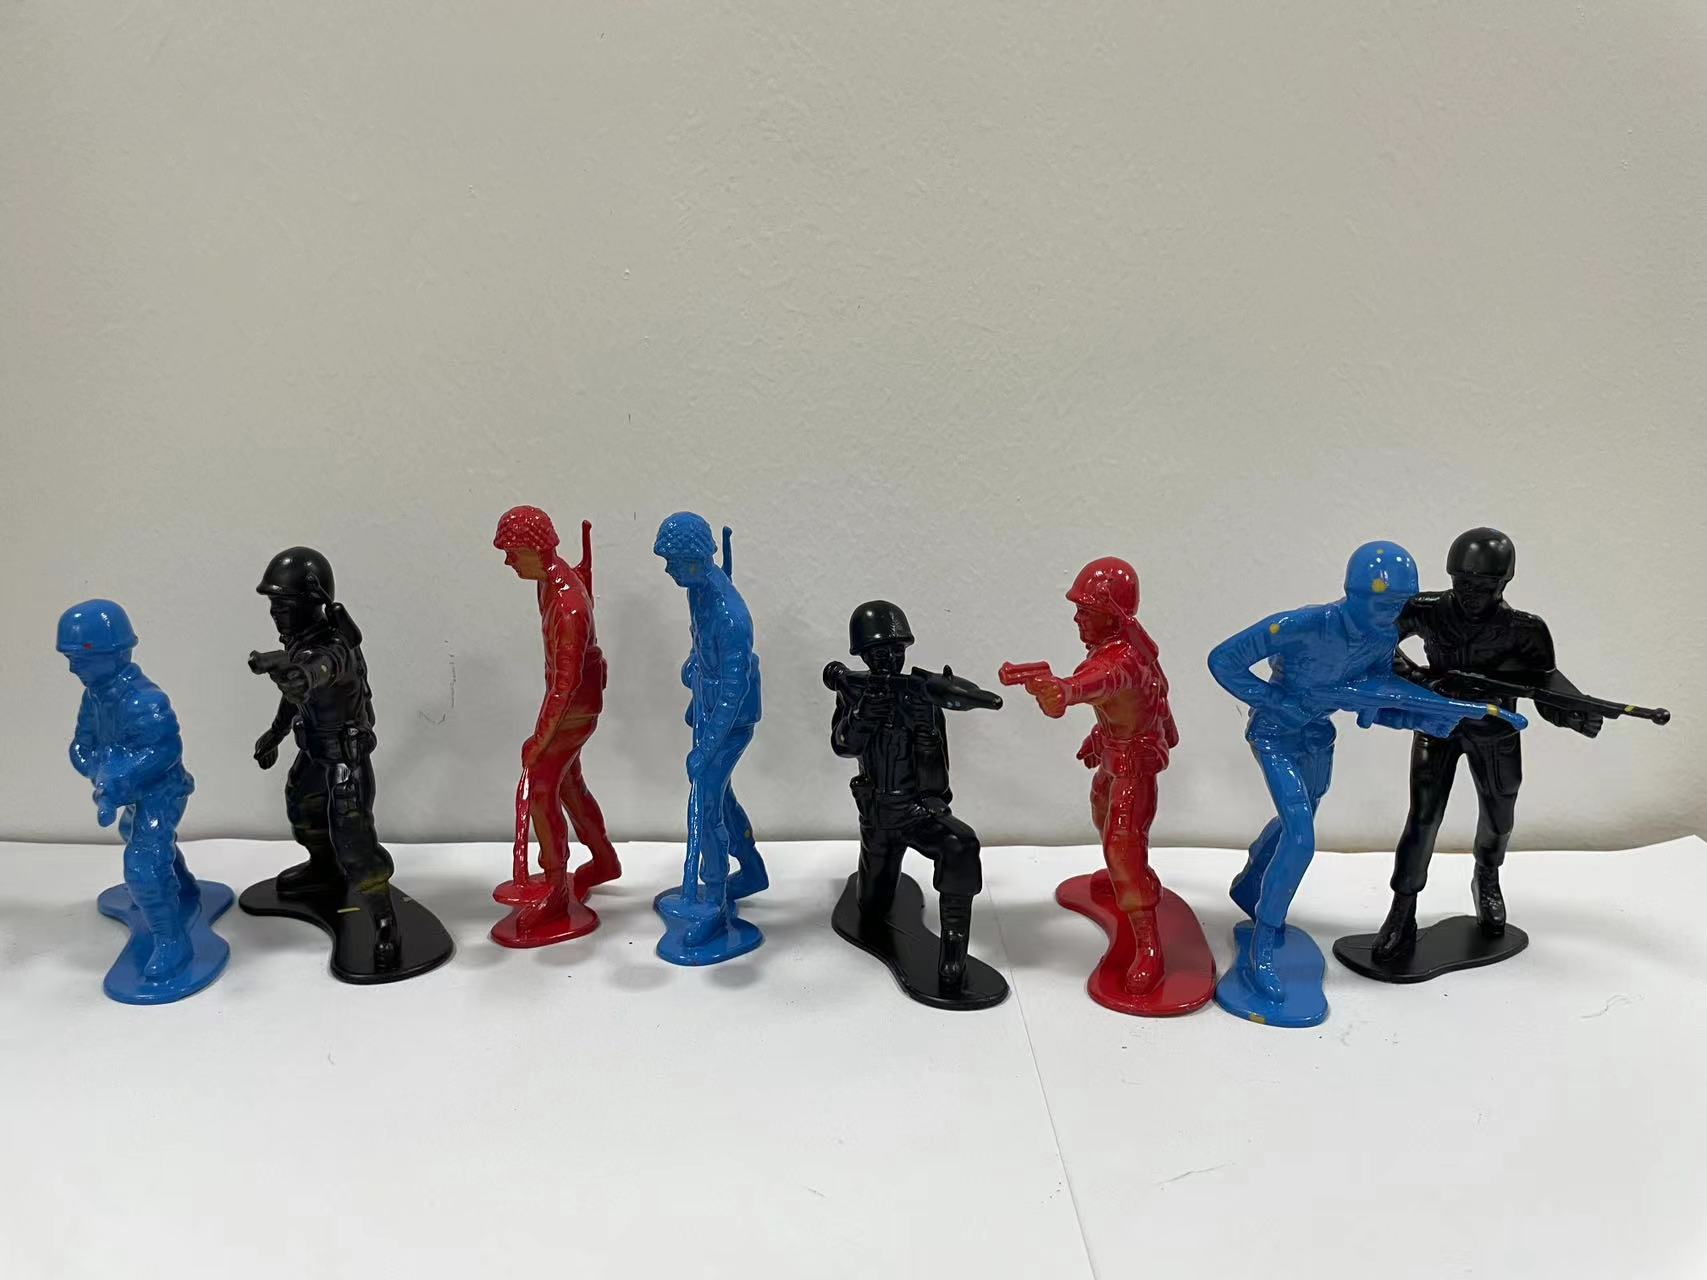black: (1398, 487, 1665, 1035), (216, 504, 466, 1038), (798, 543, 1013, 1035)
blue: (1199, 536, 1421, 1041), (22, 579, 226, 1021), (652, 487, 776, 1002)
red: (1008, 519, 1218, 1055), (487, 475, 630, 963)
